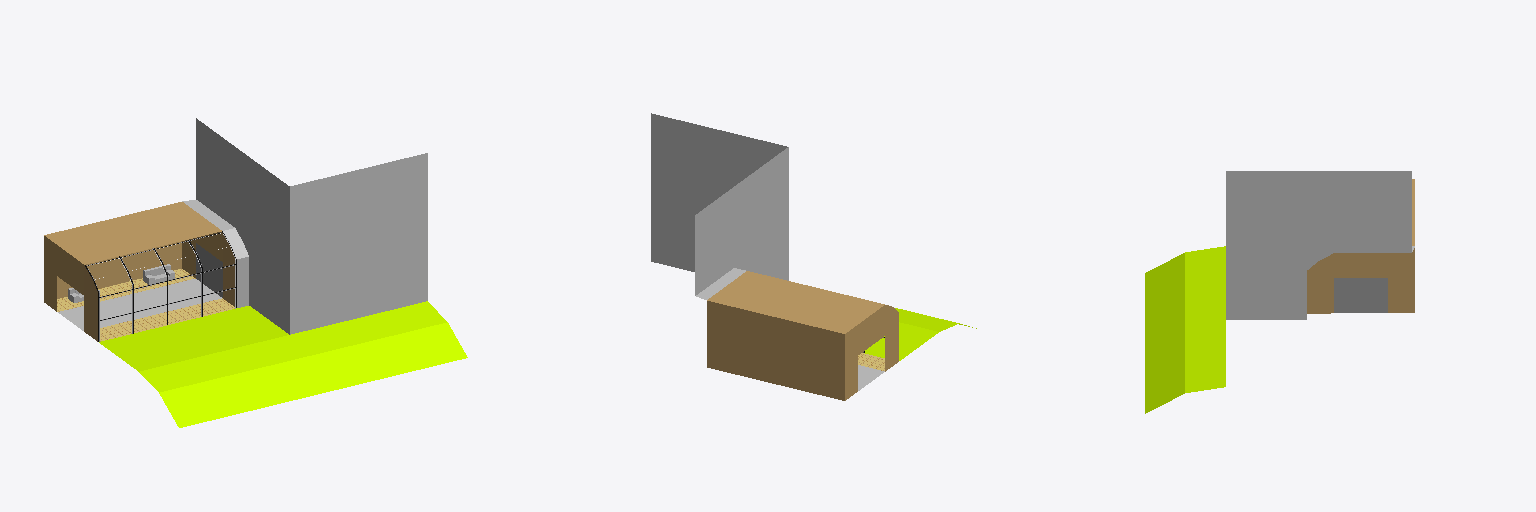
3 renders of one model, left to right at view 1: azimuth 30°, elevation 25°; view 2: azimuth 150°, elevation 25°; view 3: azimuth 270°, elevation 25°, orthographic.
Visible parts, largest first — view 1: Plane; view 2: Plane; view 3: Plane.
Boxes of the visible parts, <box> form: Plane: <box>44,118,467,427</box>; Plane: <box>651,113,976,400</box>; Plane: <box>1145,171,1414,413</box>.
Bounding box in the file's own units: 6.17 × 3.58 × 5.
8 materials, 4 textured.